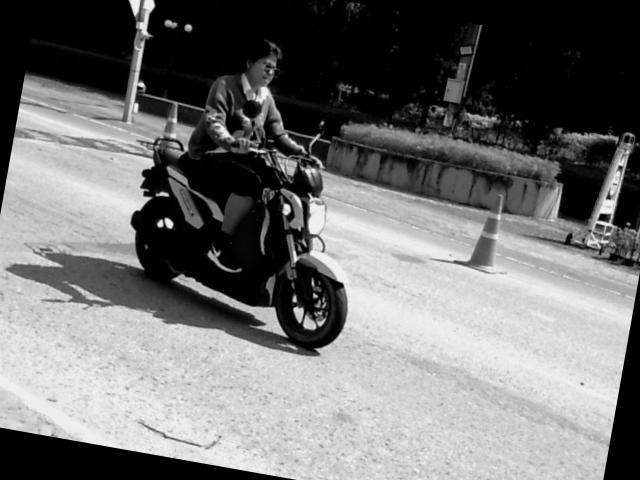motor: (130, 136, 345, 348)
no-helmet: (240, 31, 280, 84)
person: (186, 37, 302, 270)
